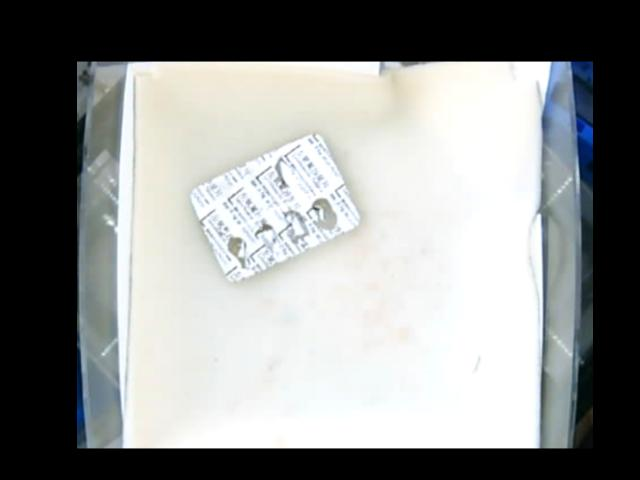Medicine: (190, 130, 360, 283)
